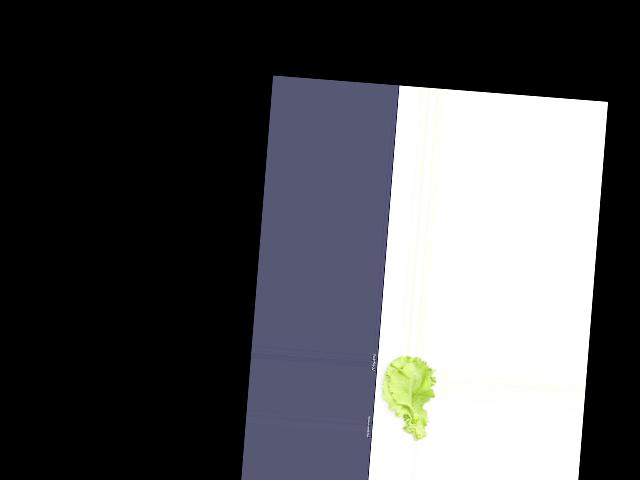lettuce: (373, 354, 438, 440)
